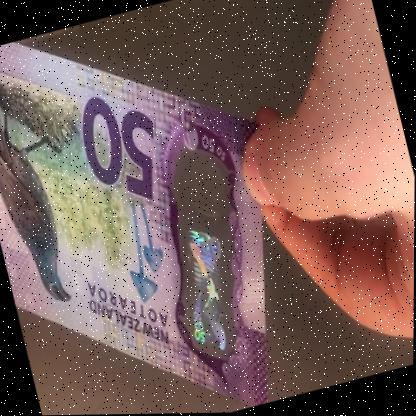50B: (149, 152, 252, 361)
